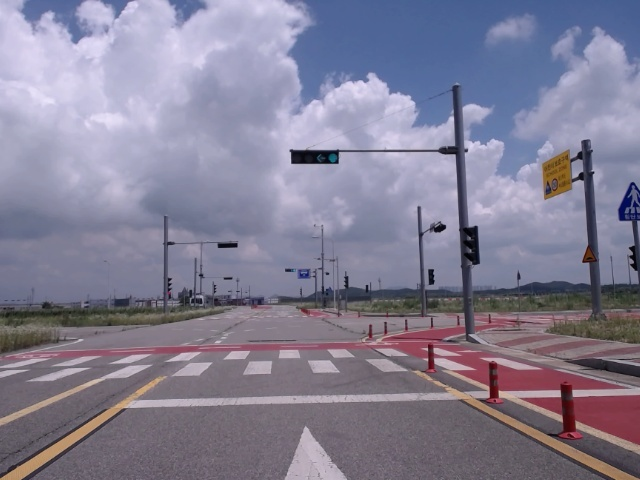all_green_4: (289, 150, 341, 166)
